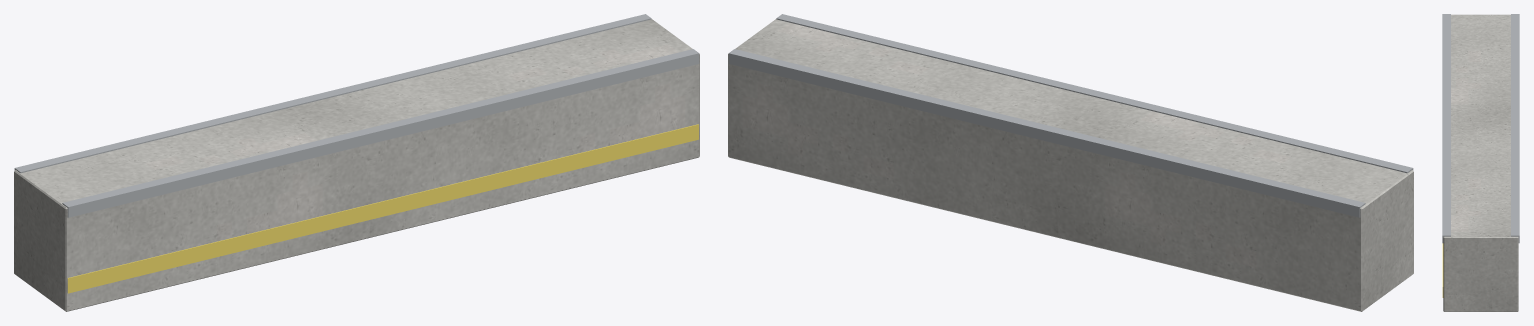
Rendered from ledge.glb.
3 views of the same model, side by side, from view 1: azimuth 30°, elevation 25°; view 2: azimuth 150°, elevation 25°; view 3: azimuth 270°, elevation 25° (orthographic). The views are drawn at different scales.
Visible parts, largest first — view 1: ledge_concrete, ledge_steel, ledge_paint_y; view 2: ledge_concrete, ledge_steel; view 3: ledge_concrete, ledge_steel, ledge_paint_y.
Boxes of the visible parts, x1=… form: ledge_concrete: x1=14, y1=19, x2=699, y2=311; ledge_steel: x1=14, y1=14, x2=699, y2=217; ledge_paint_y: x1=67, y1=124, x2=698, y2=293; ledge_concrete: x1=728, y1=19, x2=1413, y2=311; ledge_steel: x1=728, y1=14, x2=1413, y2=217; ledge_concrete: x1=1443, y1=14, x2=1518, y2=311; ledge_steel: x1=1442, y1=14, x2=1519, y2=243; ledge_paint_y: x1=1442, y1=243, x2=1443, y2=297.
Size of the model in its own units: 3.5 by 0.556 by 0.512.
3 materials, 1 textured.
